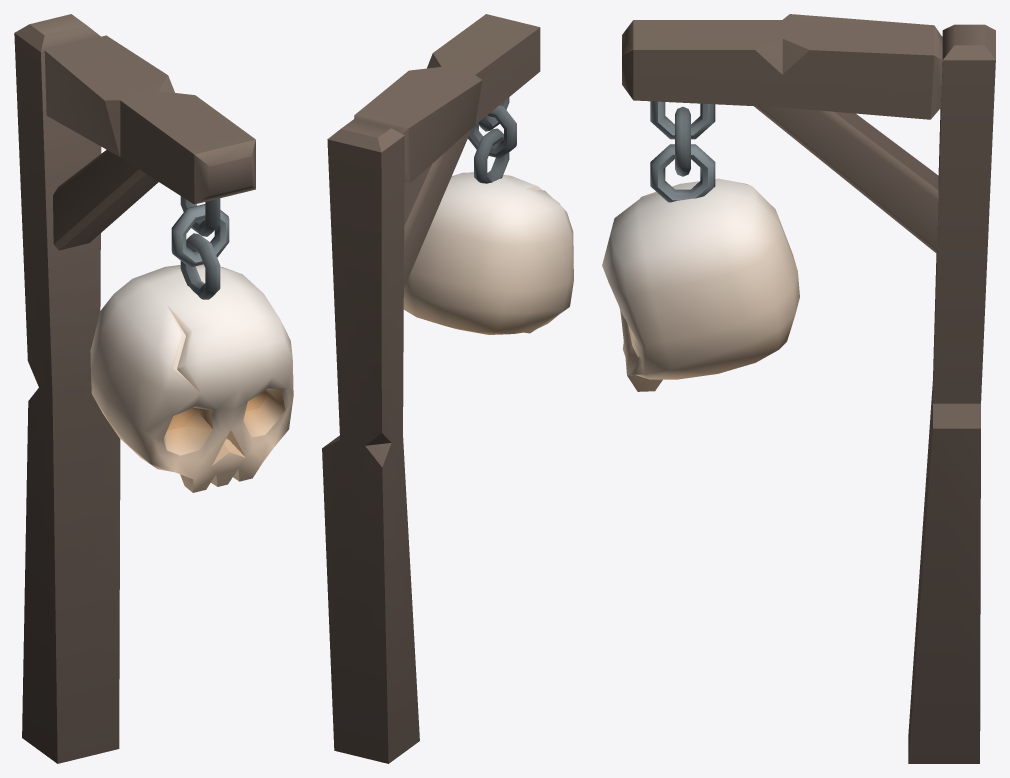
The model's file is Post_Skull.glb.
3 views of the same model, side by side, from view 1: azimuth 30°, elevation 25°; view 2: azimuth 150°, elevation 25°; view 3: azimuth 270°, elevation 25° (orthographic). The views are drawn at different scales.
Visible parts, largest first — view 1: post_skull, post_skull_skull; view 2: post_skull, post_skull_skull; view 3: post_skull, post_skull_skull.
Part boxes in pixels (x1,y1,x2,y2): post_skull: [14, 14, 255, 763]; post_skull_skull: [90, 196, 293, 492]; post_skull: [322, 14, 540, 763]; post_skull_skull: [403, 97, 573, 334]; post_skull: [622, 14, 995, 763]; post_skull_skull: [602, 101, 799, 391].
Bounding box in the file's own units: 0.4045 × 1.65 × 0.8251.
Materials: 1 (1 with a texture image).
